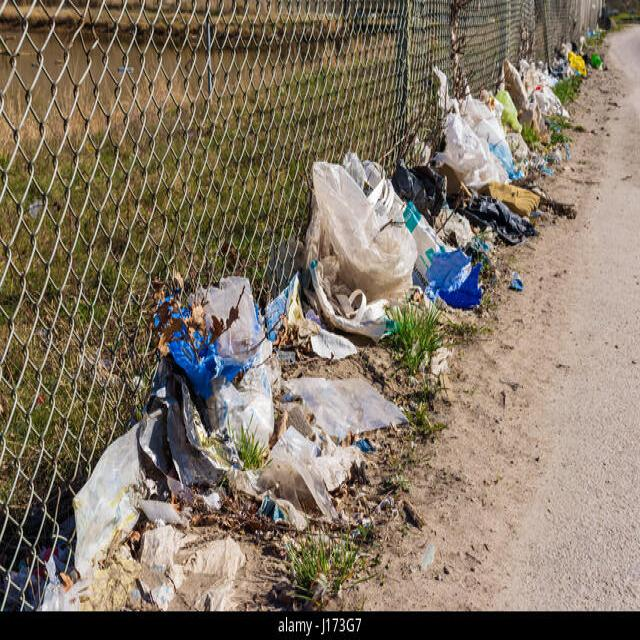trash: (318, 181, 410, 302), (217, 302, 271, 455), (459, 113, 511, 181)
